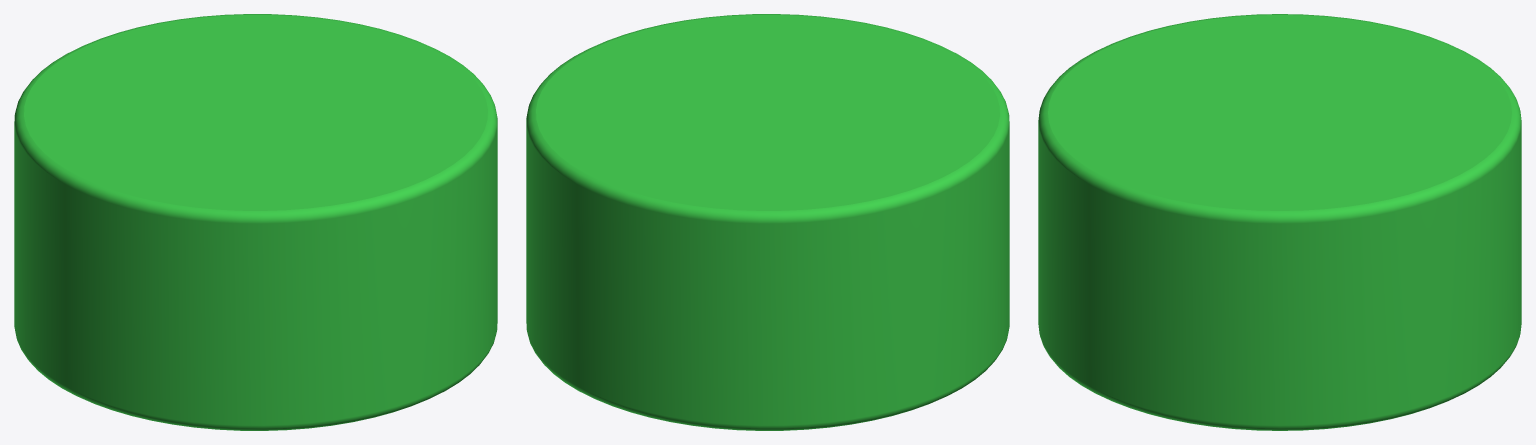
Rendered from tsumiki_green_normal.fbx.
3 views of the same model, side by side, from view 1: azimuth 30°, elevation 25°; view 2: azimuth 150°, elevation 25°; view 3: azimuth 270°, elevation 25° (orthographic).
Parts seen in each view (by area): view 1: Tumiki_Green_Plain; view 2: Tumiki_Green_Plain; view 3: Tumiki_Green_Plain.
Boxes of the visible parts, box(x1,y1,x2,y2) form: Tumiki_Green_Plain: box(14, 14, 497, 430); Tumiki_Green_Plain: box(526, 14, 1009, 430); Tumiki_Green_Plain: box(1038, 14, 1521, 430).
Bounding box in the file's own units: 100 × 50 × 100.
